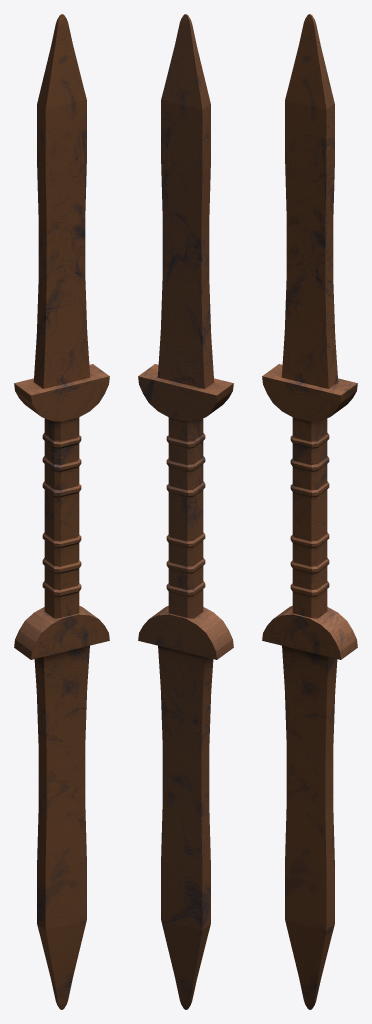
Rendered from woodentwinblade.obj.
3 views of the same model, side by side, from view 1: azimuth 30°, elevation 25°; view 2: azimuth 150°, elevation 25°; view 3: azimuth 330°, elevation 25° (orthographic).
Parts seen in each view (by area): view 1: sword; view 2: sword; view 3: sword.
Boxes of the visible parts, x1=… form: sword: x1=14, y1=14, x2=109, y2=1009; sword: x1=138, y1=14, x2=233, y2=1009; sword: x1=262, y1=14, x2=357, y2=1009.
Bounding box in the file's own units: 0.3099 × 3.74 × 0.115.
